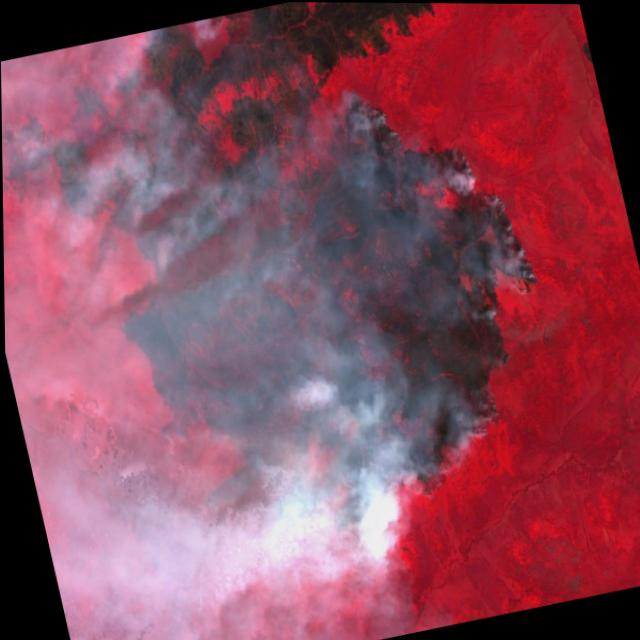fire: (174, 41, 593, 564)
